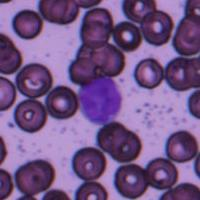L: (78, 76, 122, 125)
